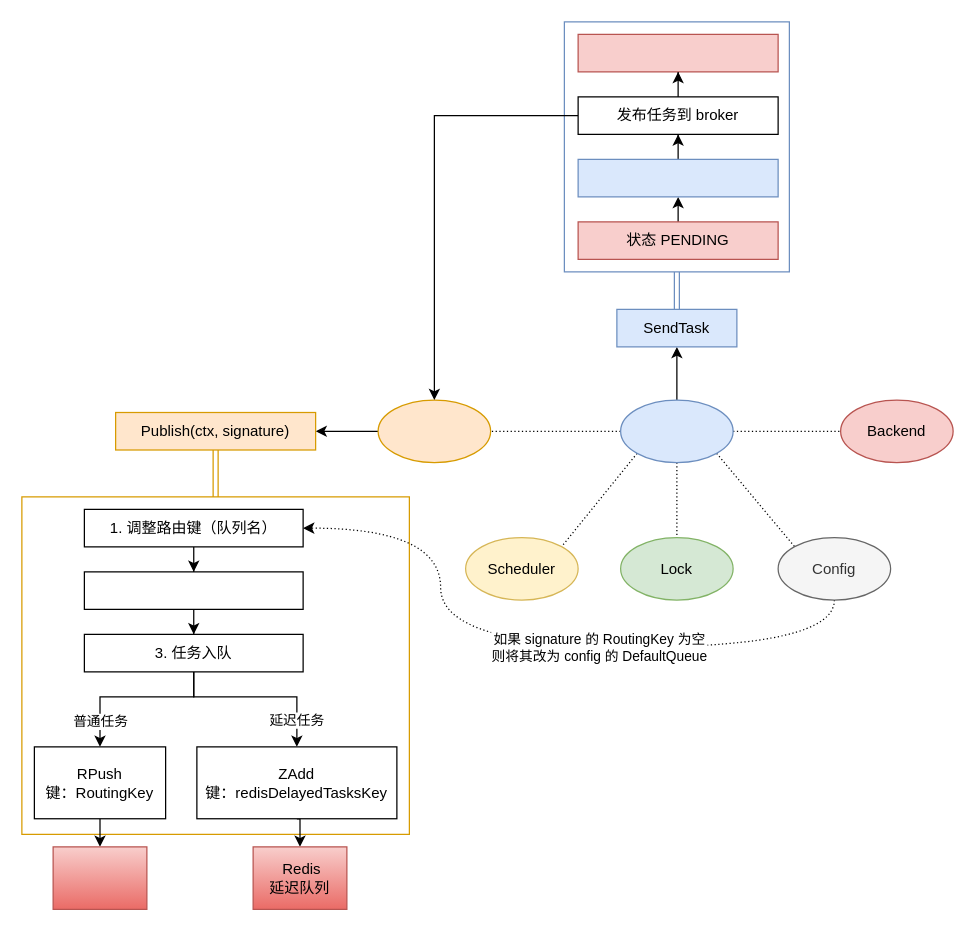
Image size: 975x931. Some labels were removed from this diagram. Here are the shapes that lost their labels. From the top down, the centre of each, then its label:
(677,52): 创建 AsyncResult 并返回
(677,177): prePublishHandler 钩子
(434,430): Broker
(676,430): Server
(193,590): 2. 序列化 signature
(99,877): Redis 普通队列
